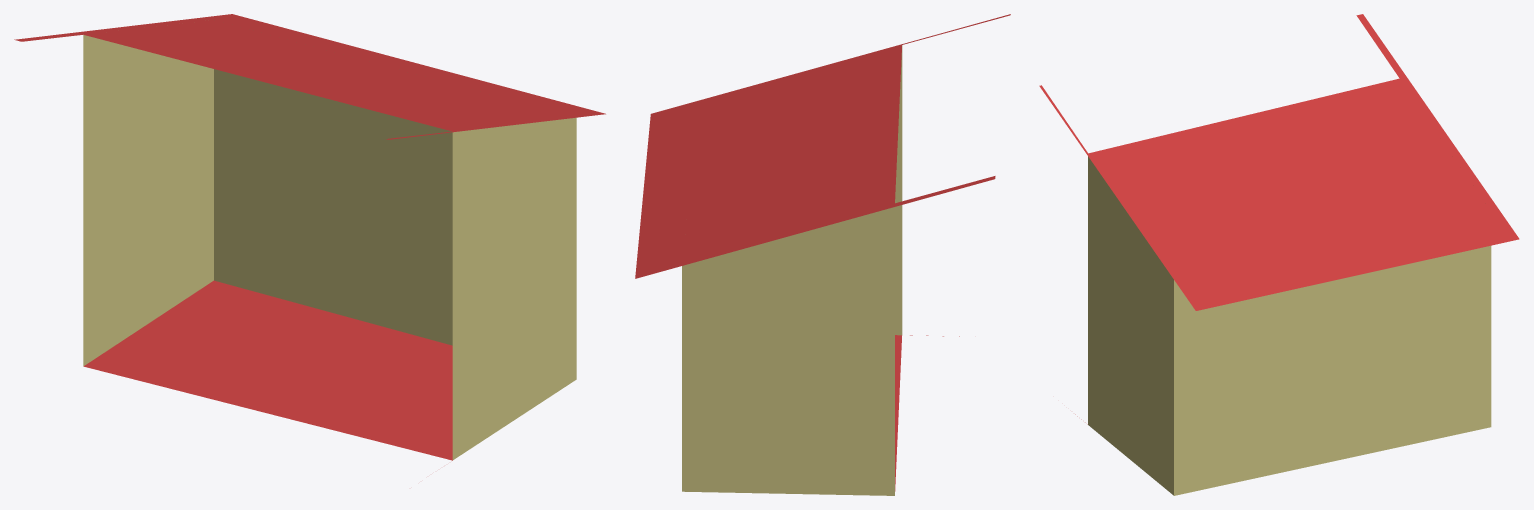
The picture shows the model from 3 angles, left to right: view 1: azimuth 30°, elevation 25°; view 2: azimuth 150°, elevation 25°; view 3: azimuth 270°, elevation 25°; orthographic projection. The views are drawn at different scales.
Bounding box in the file's own units: 12.31 × 12.63 × 8.74.
